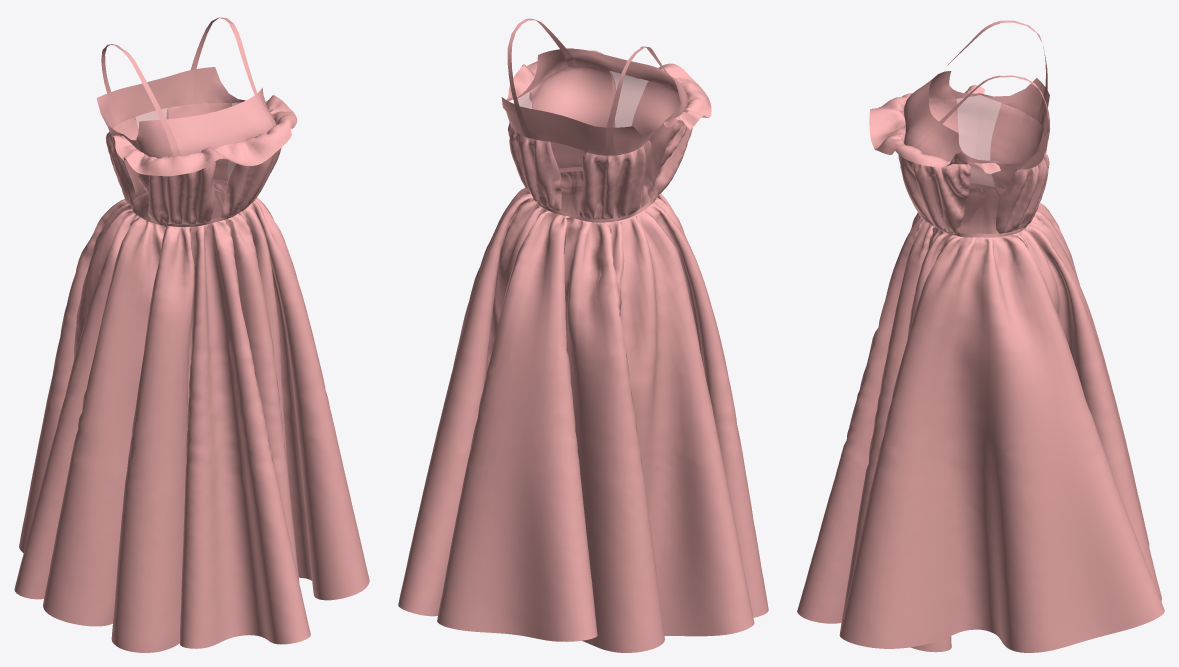
The model's file is sanju_dress.glb.
3 views of the same model, side by side, from view 1: azimuth 30°, elevation 25°; view 2: azimuth 150°, elevation 25°; view 3: azimuth 270°, elevation 25° (orthographic). The views are drawn at different scales.
Parts seen in each view (by area): view 1: Garment.001; view 2: Garment.001; view 3: Garment.001.
Part boxes in pixels (x1,y1,x2,y2): Garment.001: [14, 17, 369, 652]; Garment.001: [398, 18, 768, 652]; Garment.001: [797, 20, 1164, 652].
Size of the model in its own units: 0.6041 by 1.12 by 0.6449.
Materials: 1 (1 with a texture image).
